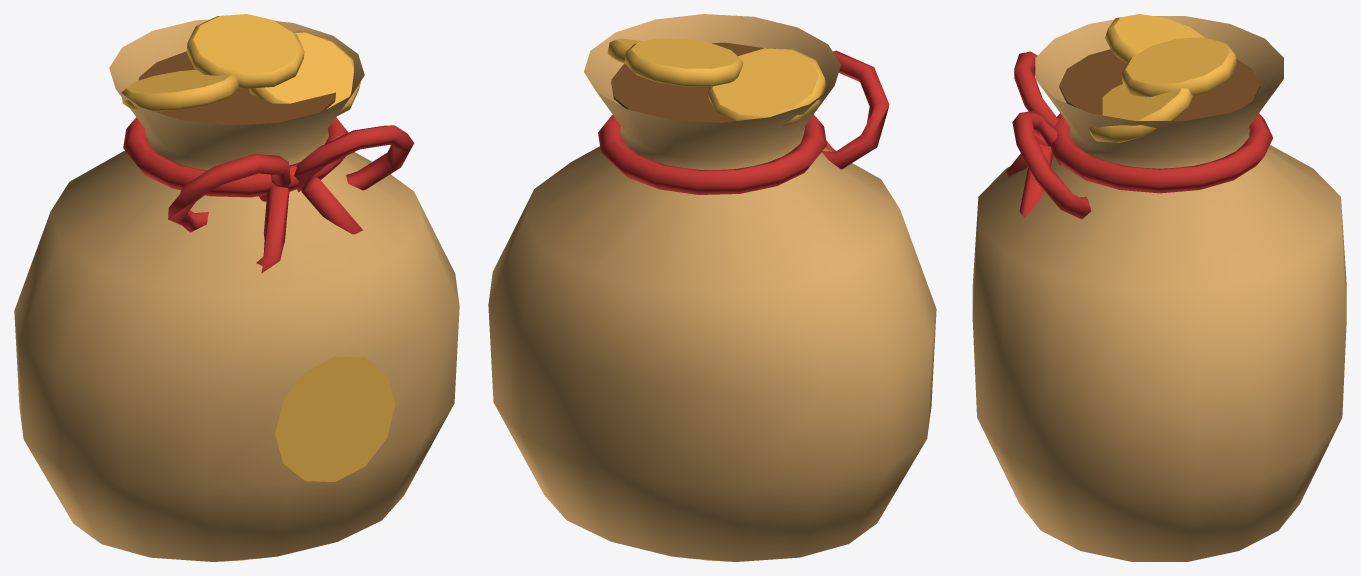
The model's file is coin_bag.glb.
The picture shows the model from 3 angles, left to right: view 1: azimuth 30°, elevation 25°; view 2: azimuth 150°, elevation 25°; view 3: azimuth 270°, elevation 25°; orthographic projection.
Parts seen in each view (by area): view 1: MOBP_coin_bag_cloth, MOBP_coin_bag_round_badge, MOBP_coin_bag_gold_1, MOBP_coin_bag_opening, MOBP_coin_bag_gold_2, MOBP_coin_bag_drawstring, MOBP_coin_bag_bow_1, MOBP_coin_bag_gold_0, MOBP_coin_bag_bow_-1, MOBP_coin_bag_tie_tail_L, MOBP_coin_bag_tie_tail_R; view 2: MOBP_coin_bag_cloth, MOBP_coin_bag_drawstring, MOBP_coin_bag_gold_0, MOBP_coin_bag_gold_1, MOBP_coin_bag_opening, MOBP_coin_bag_bow_-1; view 3: MOBP_coin_bag_cloth, MOBP_coin_bag_drawstring, MOBP_coin_bag_gold_1, MOBP_coin_bag_opening, MOBP_coin_bag_gold_2, MOBP_coin_bag_bow_1, MOBP_coin_bag_gold_0, MOBP_coin_bag_bow_-1, MOBP_coin_bag_tie_tail_R.
Boxes of the visible parts, x1,y1,x2,y2 form: MOBP_coin_bag_cloth: [14, 19, 459, 561]; MOBP_coin_bag_round_badge: [275, 356, 395, 481]; MOBP_coin_bag_gold_1: [186, 14, 304, 88]; MOBP_coin_bag_opening: [138, 51, 335, 125]; MOBP_coin_bag_gold_2: [249, 31, 360, 116]; MOBP_coin_bag_drawstring: [123, 117, 348, 197]; MOBP_coin_bag_bow_1: [294, 125, 414, 192]; MOBP_coin_bag_gold_0: [121, 70, 238, 111]; MOBP_coin_bag_bow_-1: [168, 153, 290, 232]; MOBP_coin_bag_tie_tail_L: [256, 186, 289, 273]; MOBP_coin_bag_tie_tail_R: [301, 176, 362, 234]; MOBP_coin_bag_cloth: [488, 14, 936, 561]; MOBP_coin_bag_drawstring: [598, 114, 826, 194]; MOBP_coin_bag_gold_0: [707, 48, 826, 126]; MOBP_coin_bag_gold_1: [624, 38, 743, 86]; MOBP_coin_bag_opening: [611, 42, 763, 122]; MOBP_coin_bag_bow_-1: [822, 50, 889, 169]; MOBP_coin_bag_cloth: [972, 16, 1346, 561]; MOBP_coin_bag_drawstring: [1050, 113, 1272, 193]; MOBP_coin_bag_gold_1: [1121, 37, 1237, 96]; MOBP_coin_bag_opening: [1059, 49, 1259, 120]; MOBP_coin_bag_gold_2: [1089, 84, 1193, 142]; MOBP_coin_bag_bow_1: [1012, 111, 1091, 219]; MOBP_coin_bag_gold_0: [1105, 14, 1204, 63]; MOBP_coin_bag_bow_-1: [1014, 51, 1059, 126]; MOBP_coin_bag_tie_tail_R: [1019, 144, 1053, 217].
Size of the model in its own units: 0.0863 by 0.0992 by 0.0722.
